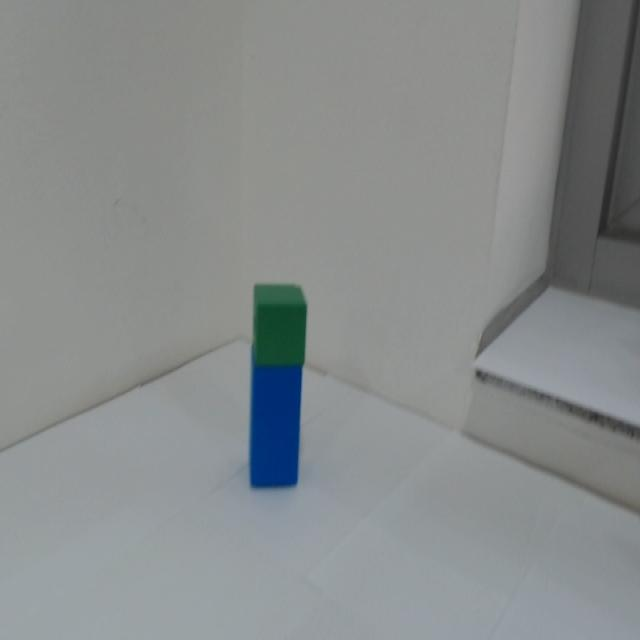cube: (249, 277, 319, 372)
